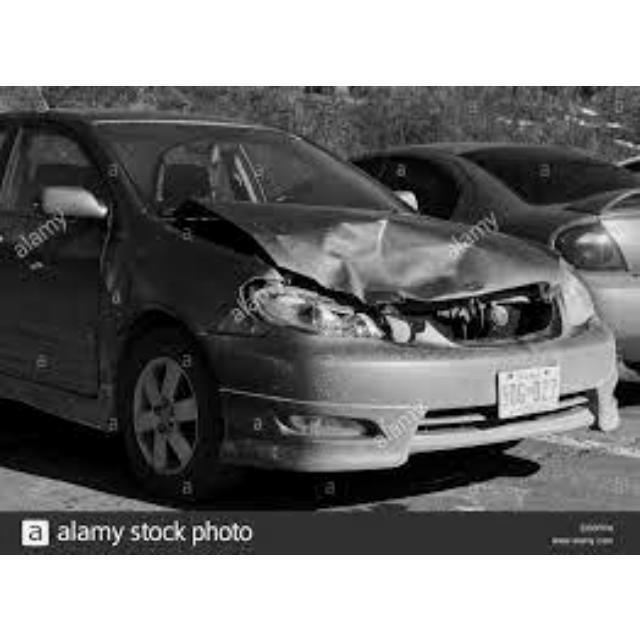bonnet-dent: (183, 210, 571, 302)
